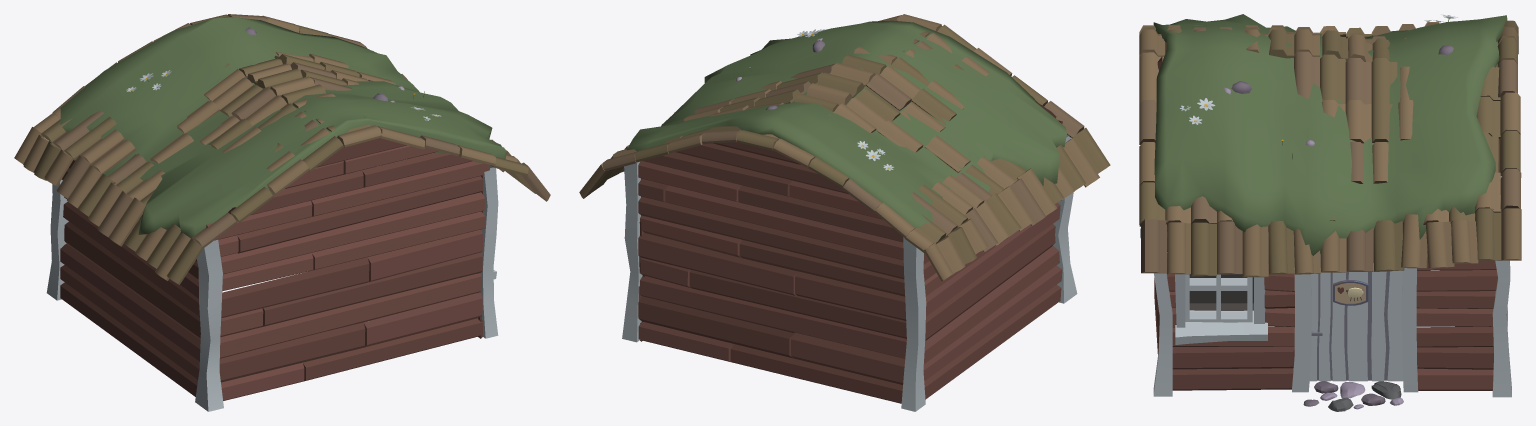
The model's file is P_Cabin_Workshop_LD.fbx.
3 renders of one model, left to right at view 1: azimuth 30°, elevation 25°; view 2: azimuth 150°, elevation 25°; view 3: azimuth 270°, elevation 25°, orthographic. The views are drawn at different scales.
Visible parts, largest first — view 1: P_Cabin_Workshop; view 2: P_Cabin_Workshop; view 3: P_Cabin_Workshop.
Boxes of the visible parts, x1,y1,x2,y2 form: P_Cabin_Workshop: [14, 14, 550, 411]; P_Cabin_Workshop: [579, 14, 1110, 411]; P_Cabin_Workshop: [1139, 14, 1521, 411].
Size of the model in its own units: 875 by 551 by 654.
2 materials, 2 textured.
